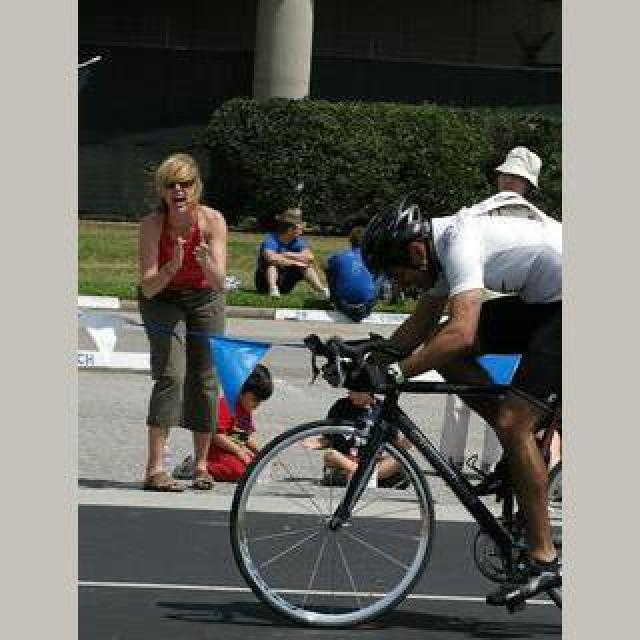MC-Bike: (350, 136, 560, 620), (136, 150, 232, 490), (256, 208, 330, 300)
Person: (232, 311, 562, 639)
